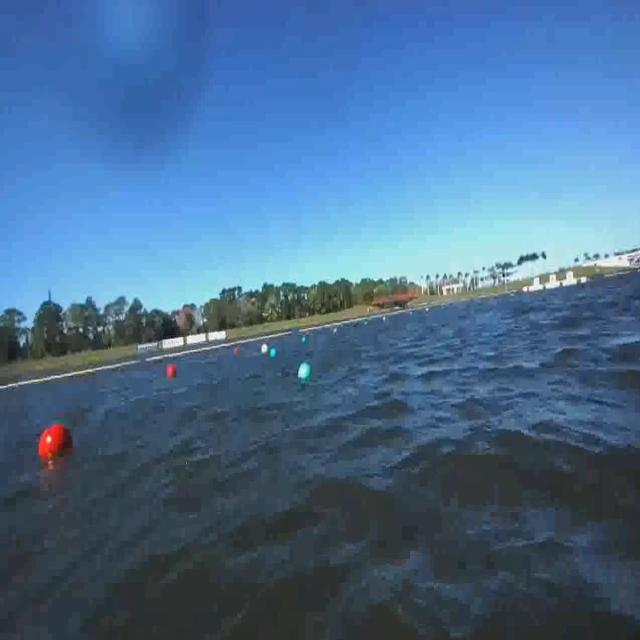green-buoy: (300, 360, 312, 380), (270, 348, 278, 359)
red-buoy: (39, 426, 74, 462), (168, 363, 178, 379)
